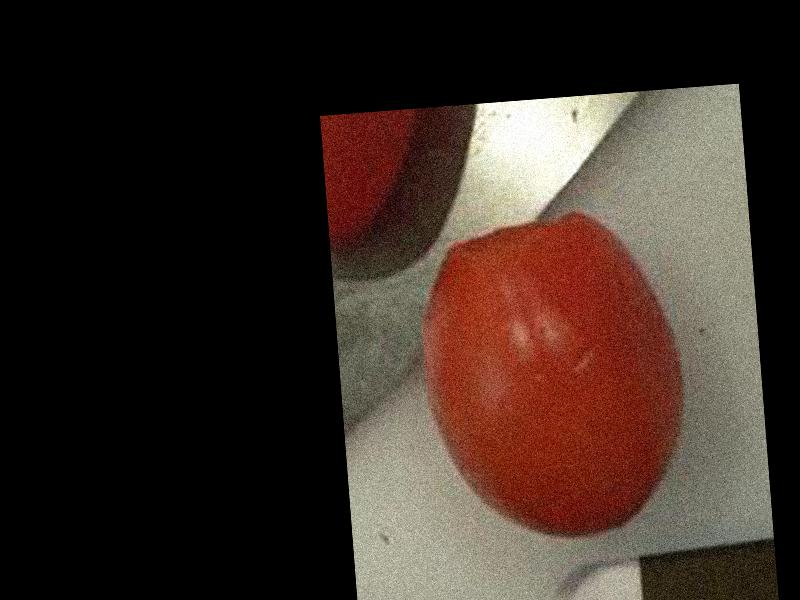Tomato: (411, 205, 693, 548)
